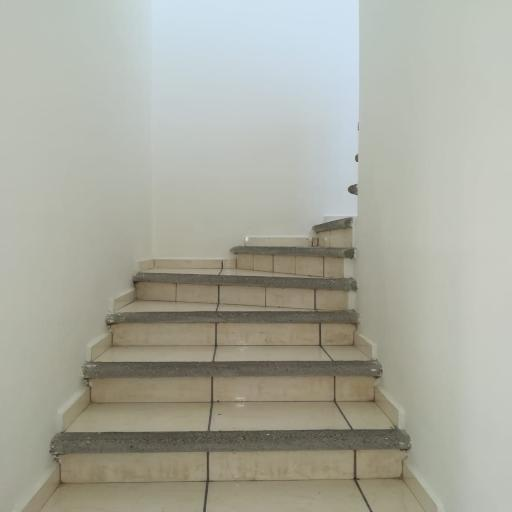laptop: (6, 214, 451, 512)
